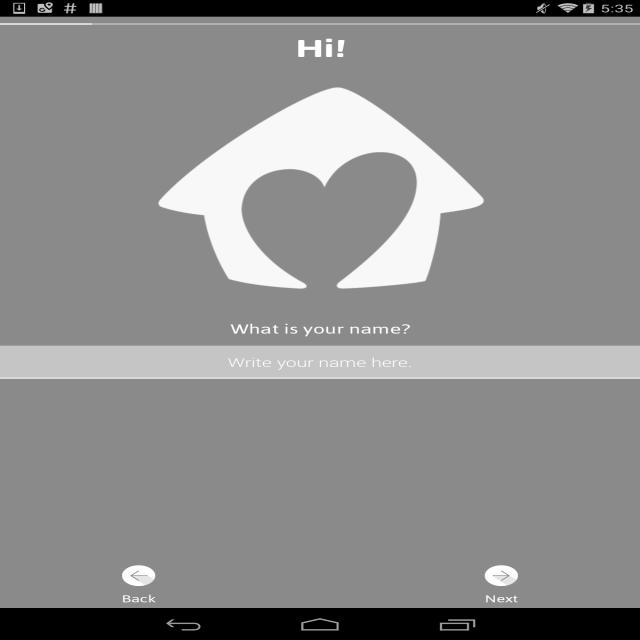Button: (96, 562, 181, 608), (459, 562, 544, 608)
EditText: (0, 346, 640, 379)
ImageView: (132, 71, 507, 306)
ProgressBar: (0, 23, 640, 25)
TextView: (0, 31, 640, 65), (0, 312, 640, 346)
